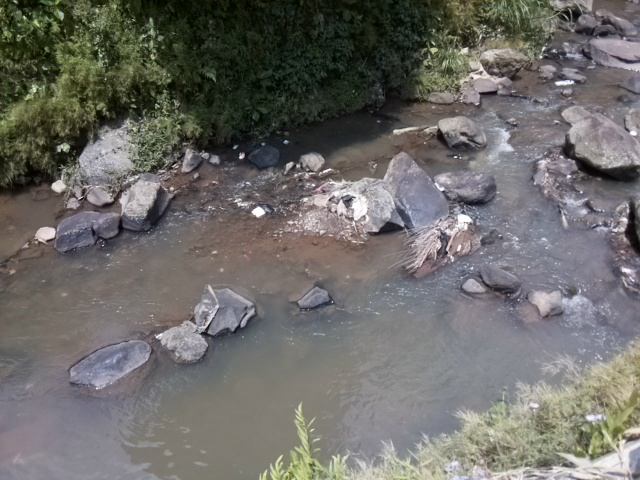Sampah_Styrofoam: (249, 205, 266, 217)
